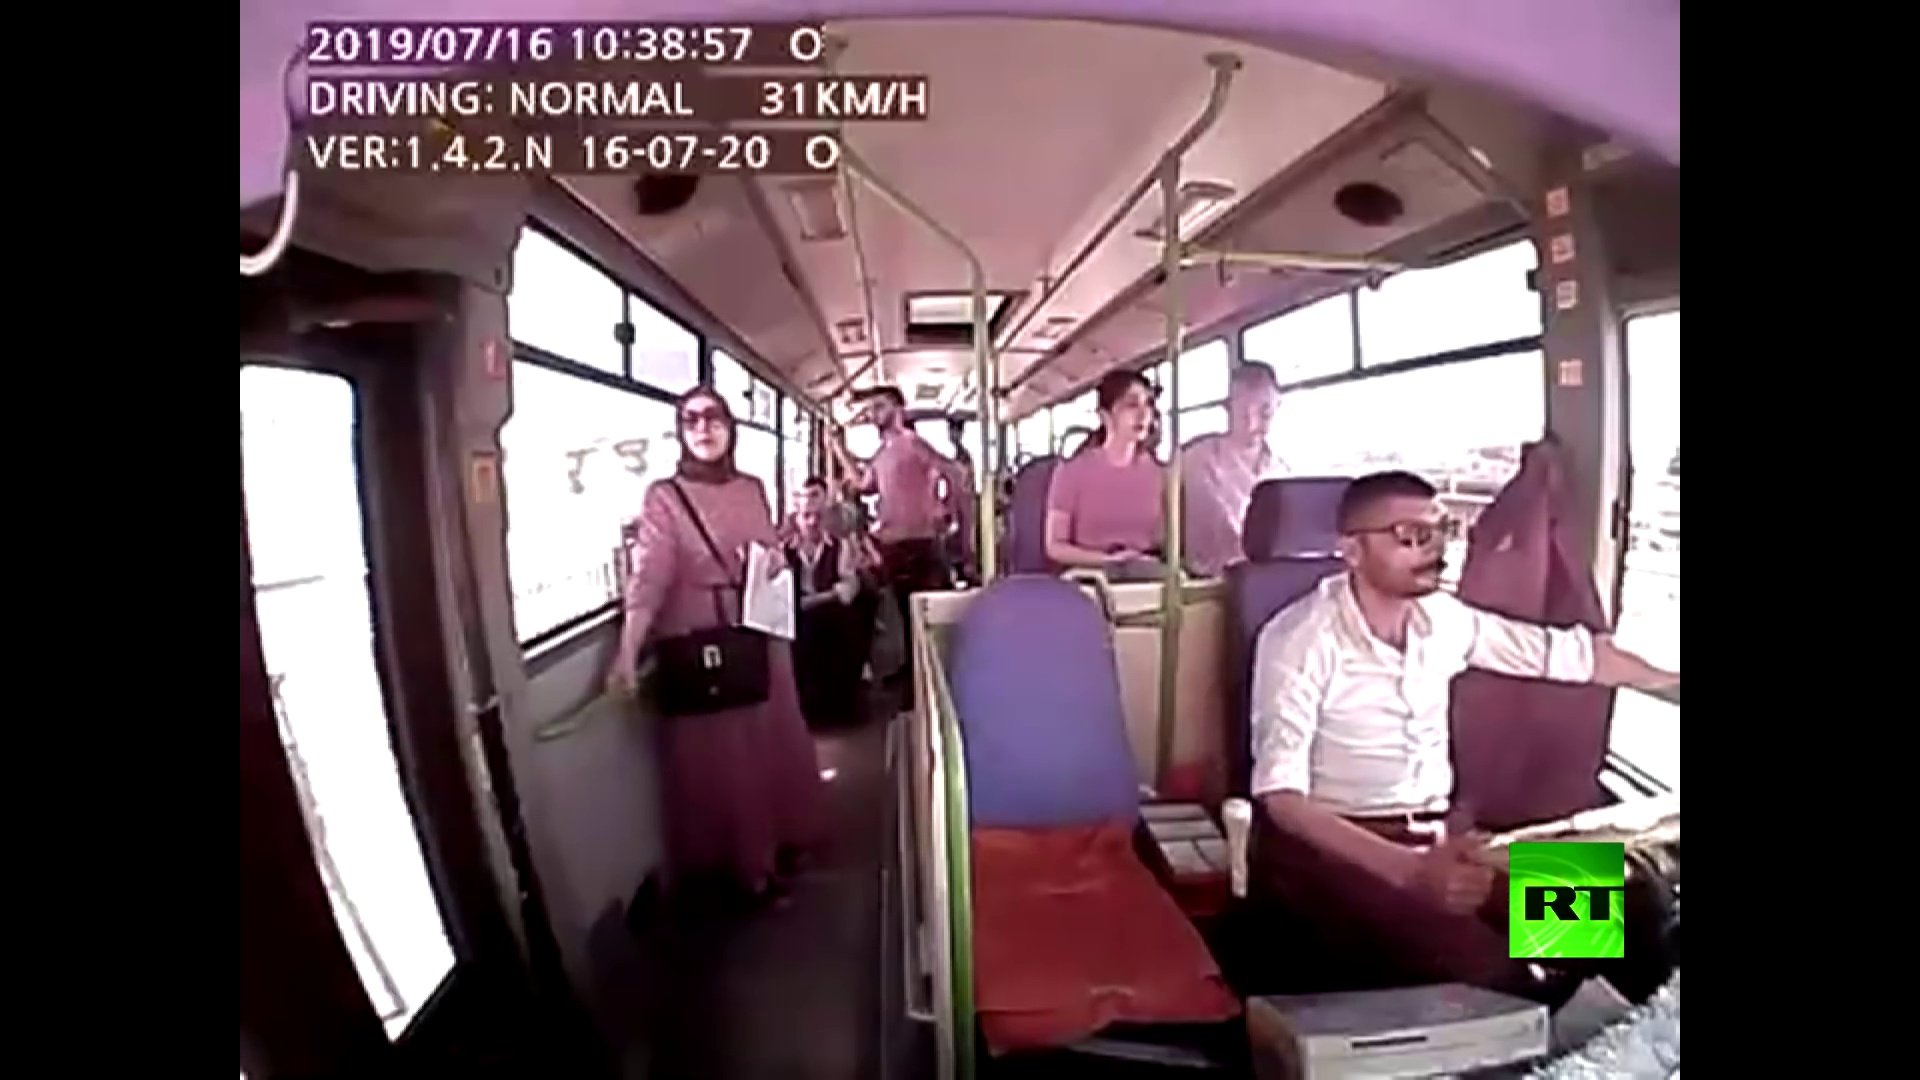face: (1353, 493, 1451, 595), (1224, 388, 1285, 458), (673, 397, 734, 453), (1109, 384, 1163, 447), (795, 504, 824, 538), (867, 393, 889, 434)
